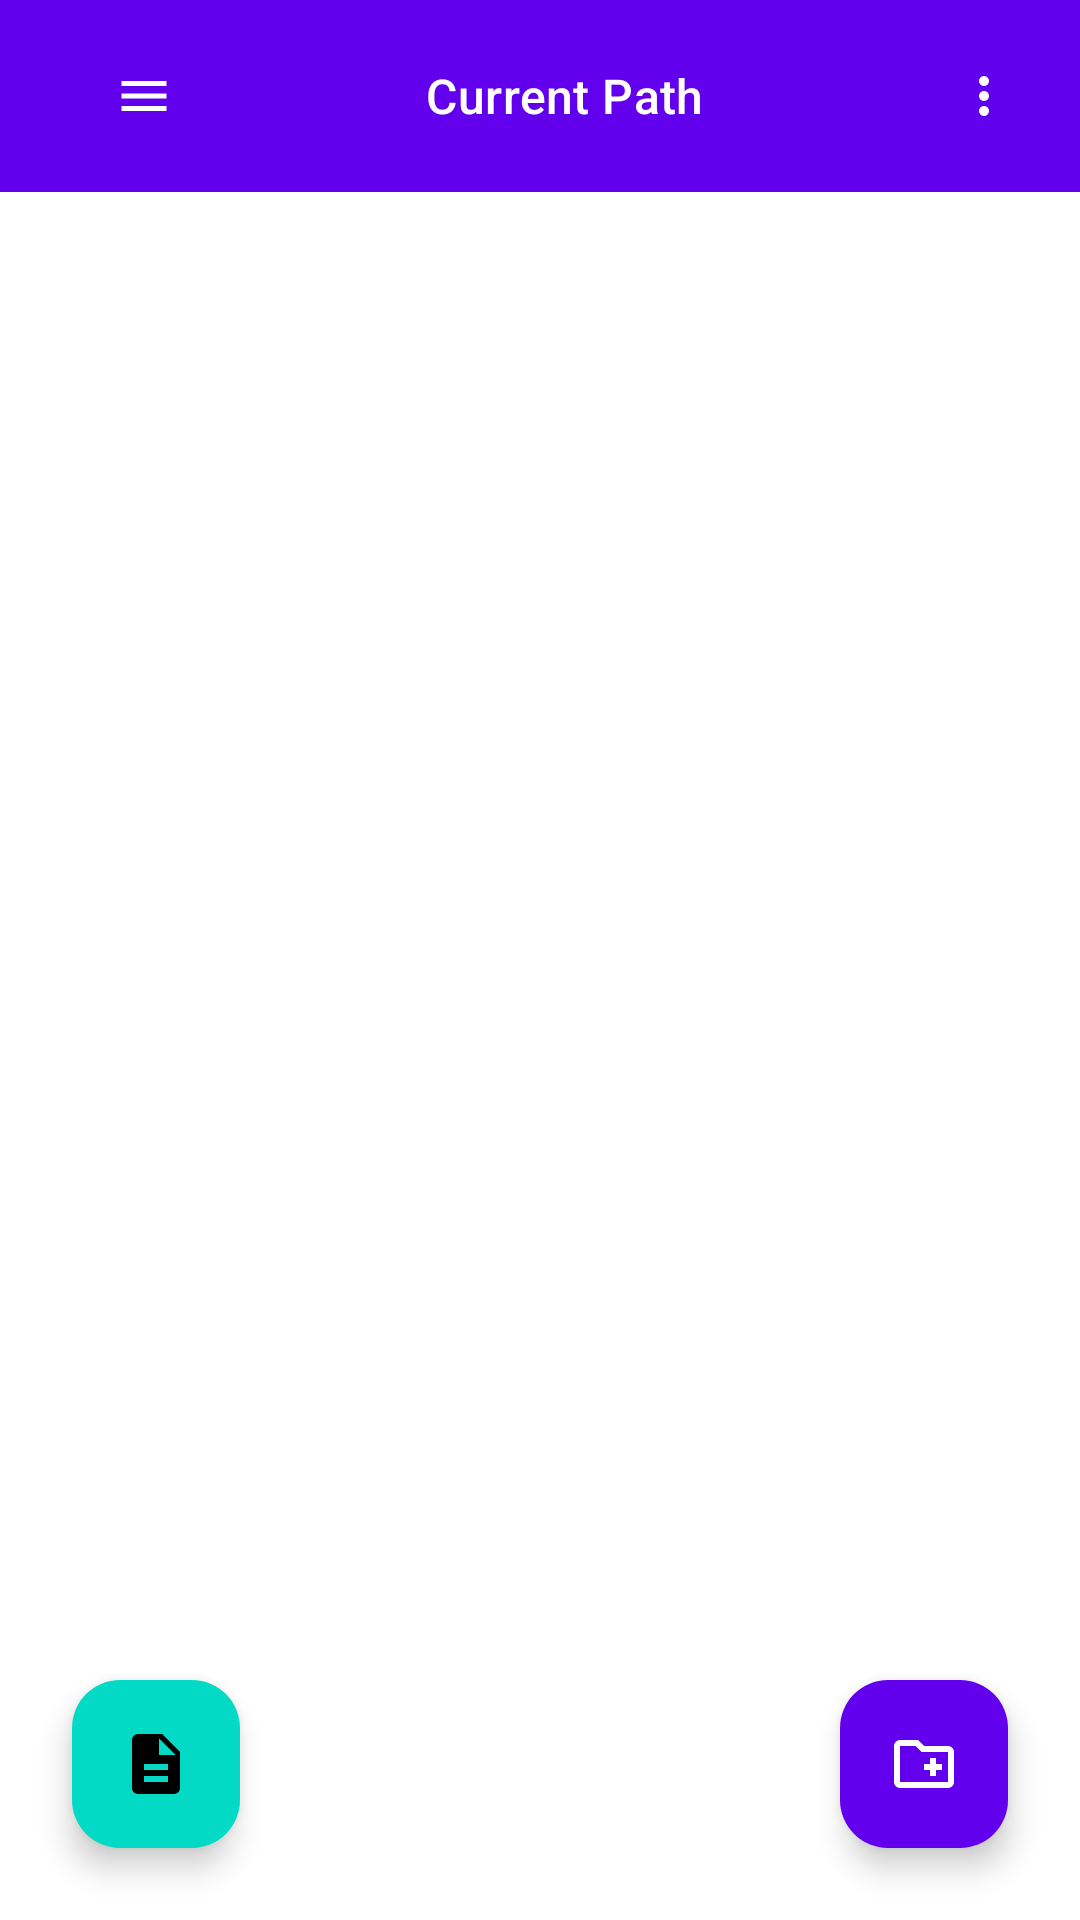

Named icons in this screenshot (1080×1920) and their bounding boxes, (x1, y1, x2, y2):
Create folder: (840, 1680, 1008, 1848)
Import file: (72, 1680, 240, 1848)
Menu options: (979, 76, 989, 116)
